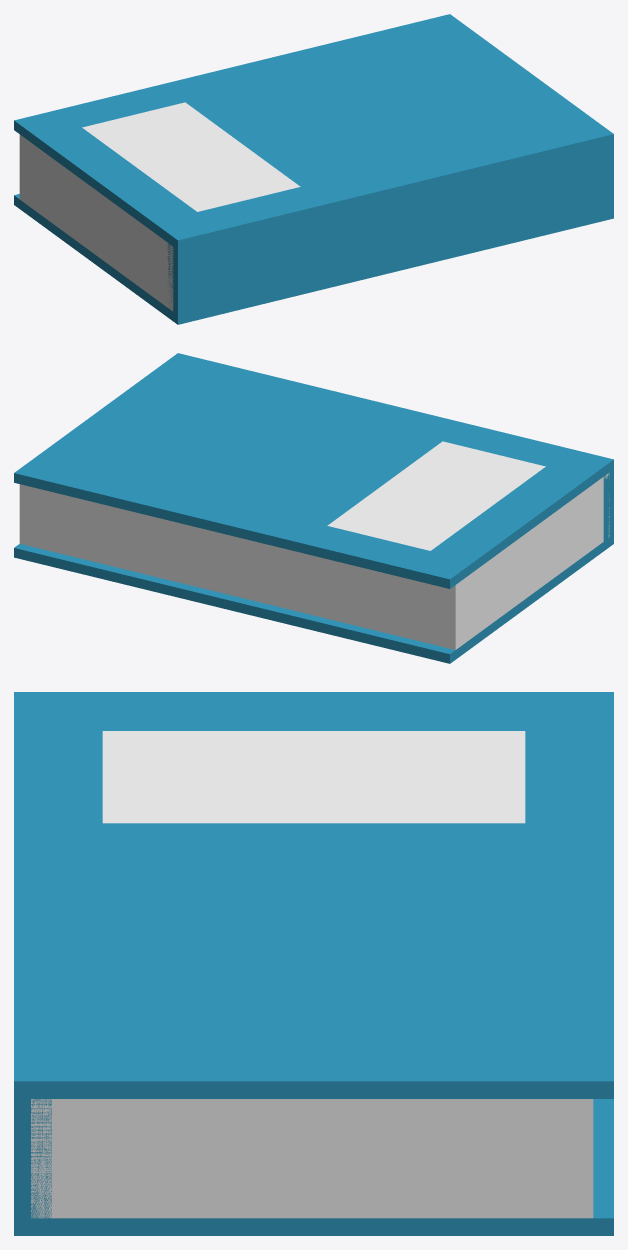
The model's file is Book.fbx.
3 views of the same model, one above another, from view 1: azimuth 30°, elevation 25°; view 2: azimuth 150°, elevation 25°; view 3: azimuth 270°, elevation 25° (orthographic). The views are drawn at different scales.
Parts seen in each view (by area): view 1: Book; view 2: Book; view 3: Book.
Part boxes in pixels (bbox=[...]): Book: bbox=[14, 14, 613, 324]; Book: bbox=[14, 353, 613, 663]; Book: bbox=[14, 692, 613, 1235].
Bounding box in the file's own units: 86.42 × 16 × 56.29.
